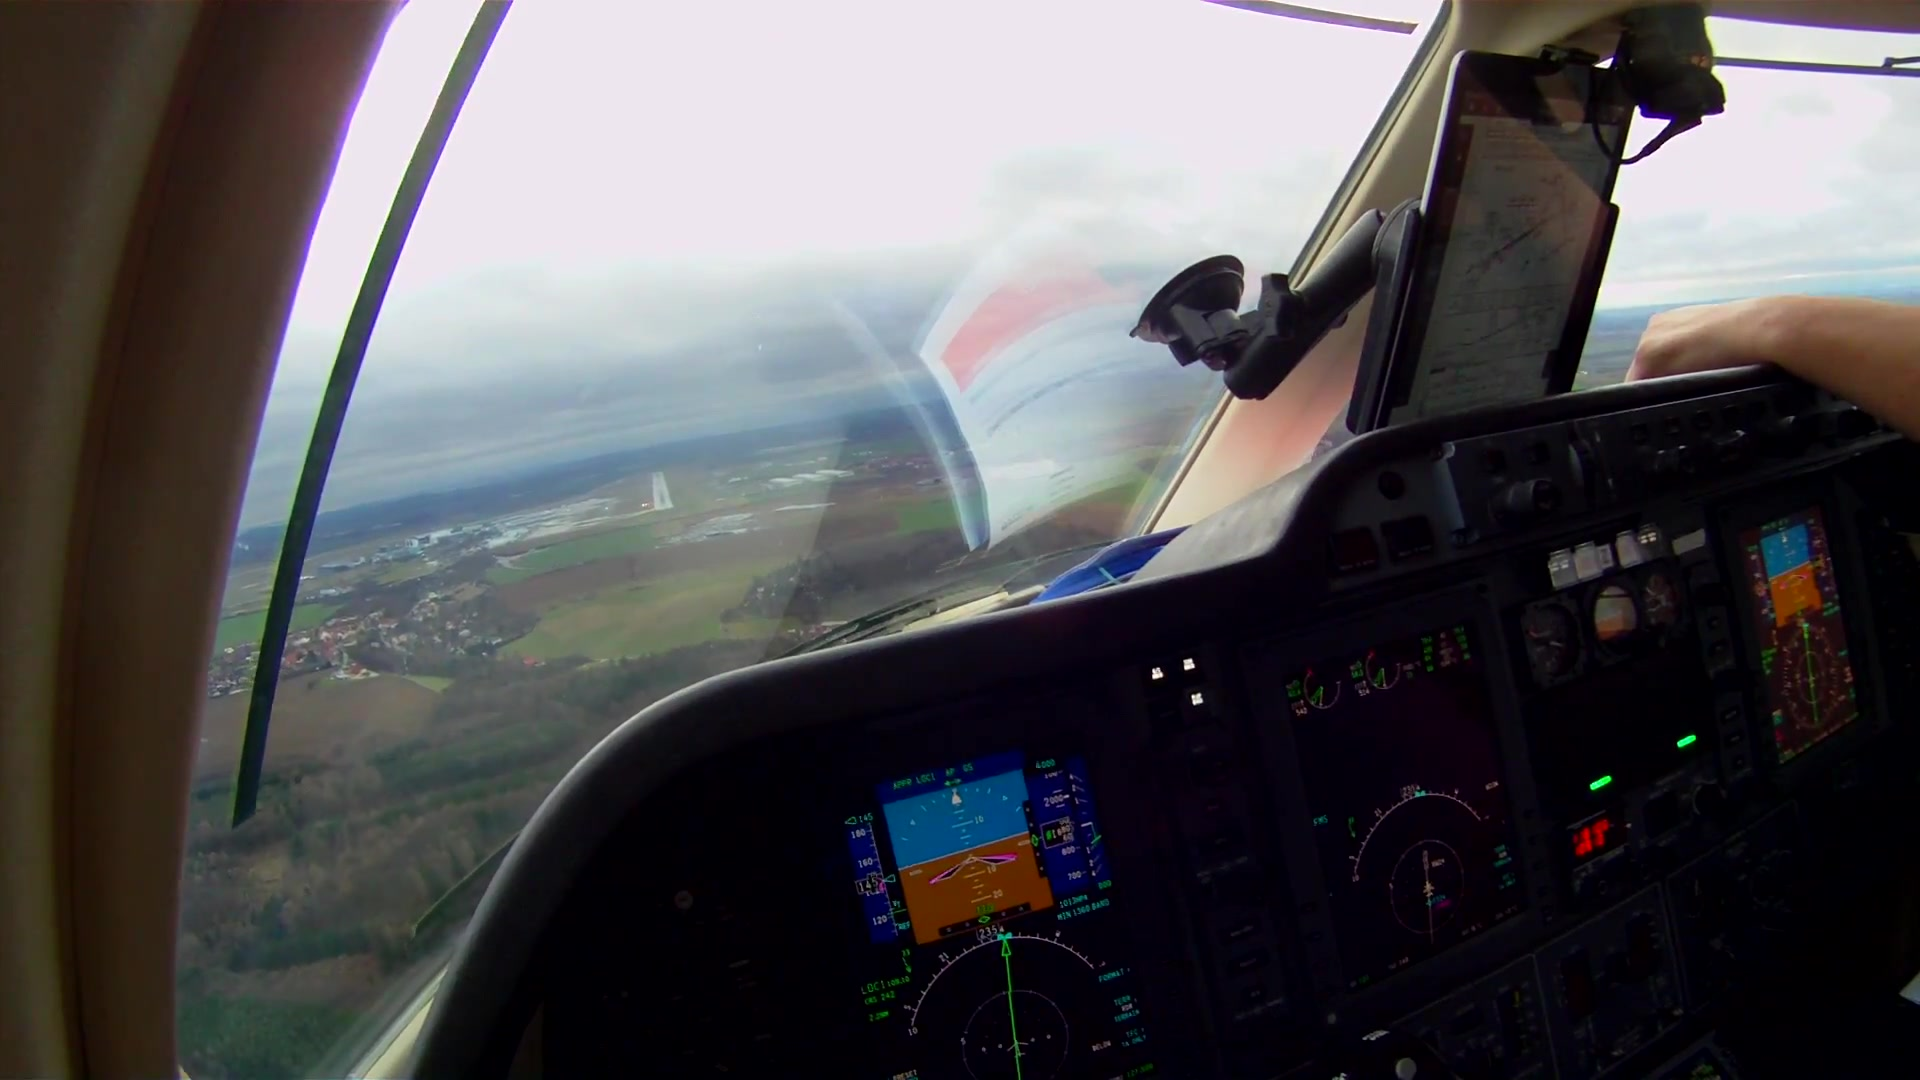runway: (650, 471, 674, 514)
